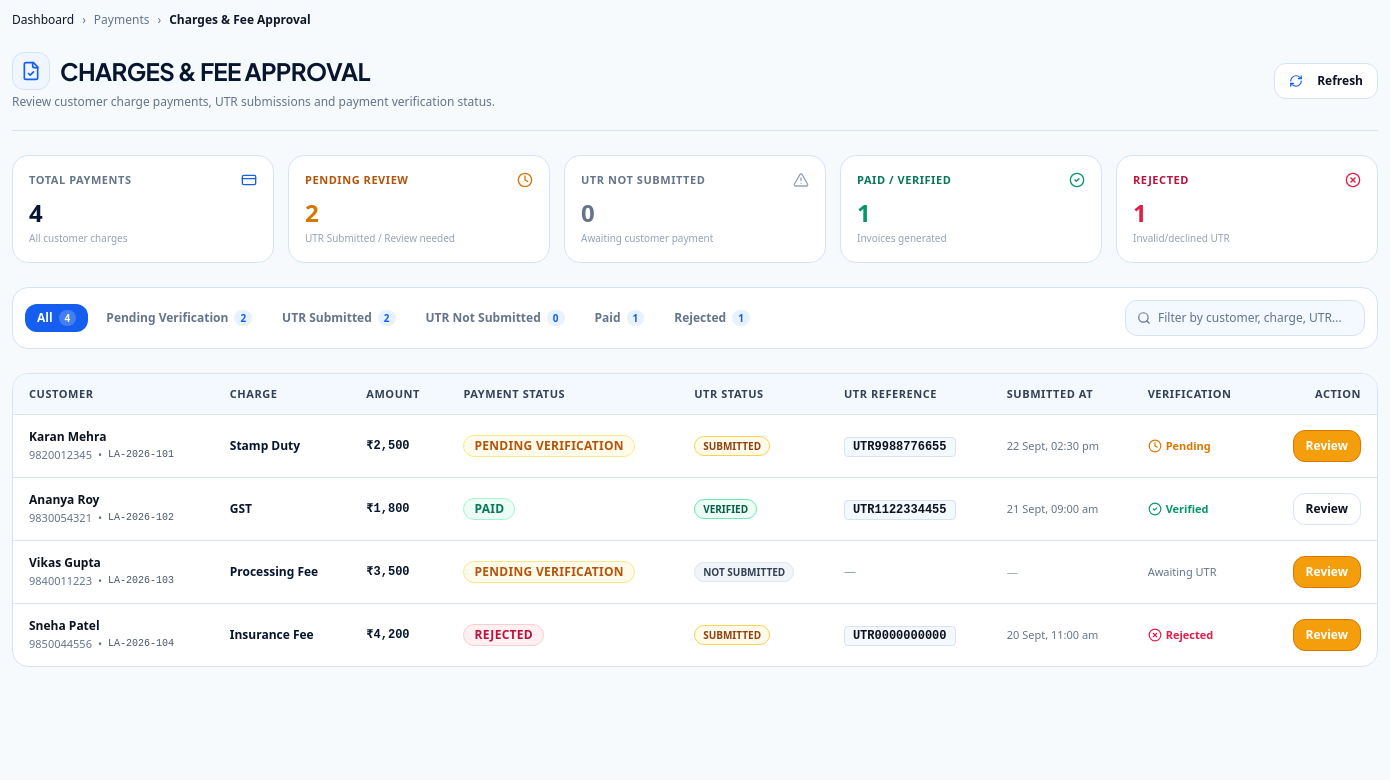
Admin Charges & Fee Approval Workflow › TEST 4: Search input filters by customer name, UTR, or charge name
This screenshot has width=1390, height=780.
Expected: the text "Karan Mehra" is shown, [29,428,106,445]
Type "Stamp Duty" into the field with placeholder "Filter by customer, charge, UTR..." at (1245, 318), box [1125,300,1365,336]
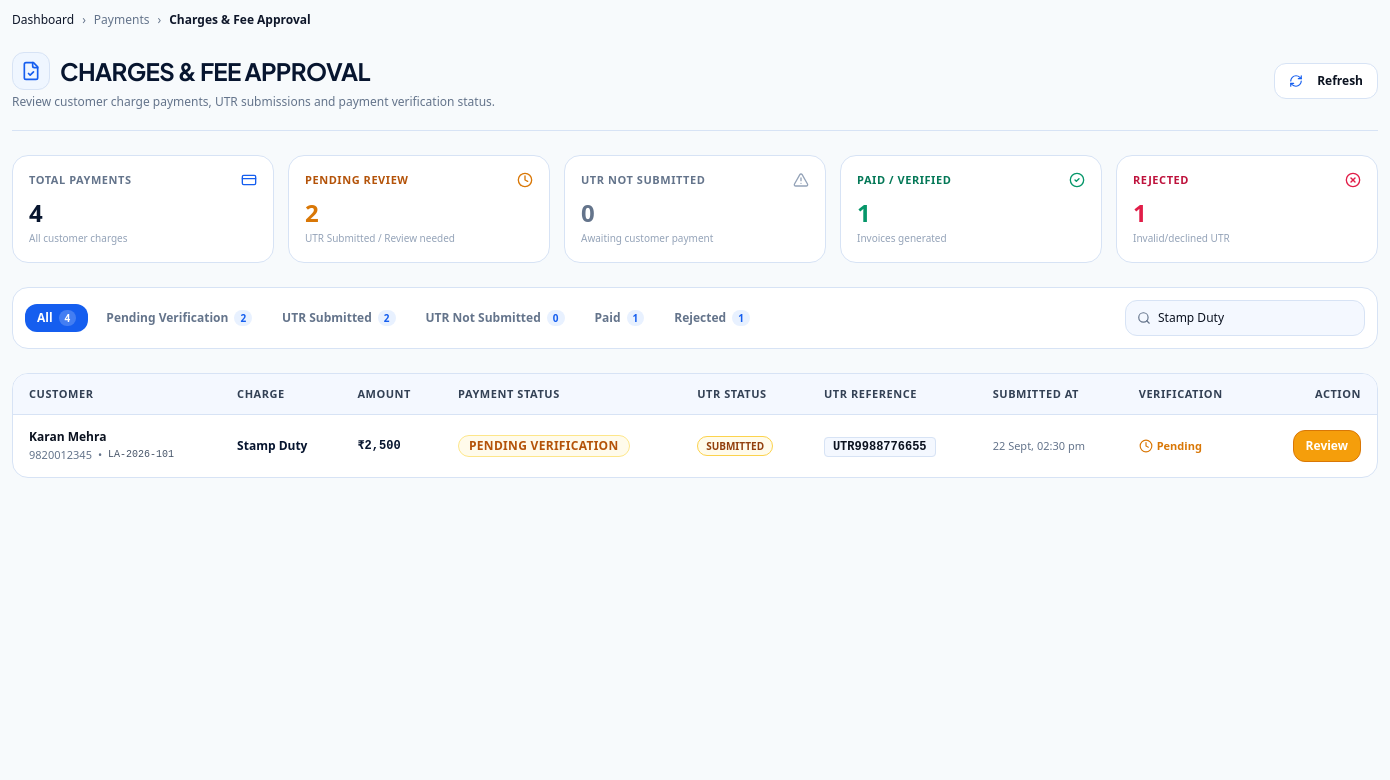
Expected: the text "Karan Mehra" is shown, [29,428,106,445]
Expected: the text "Ananya Roy" is gone
